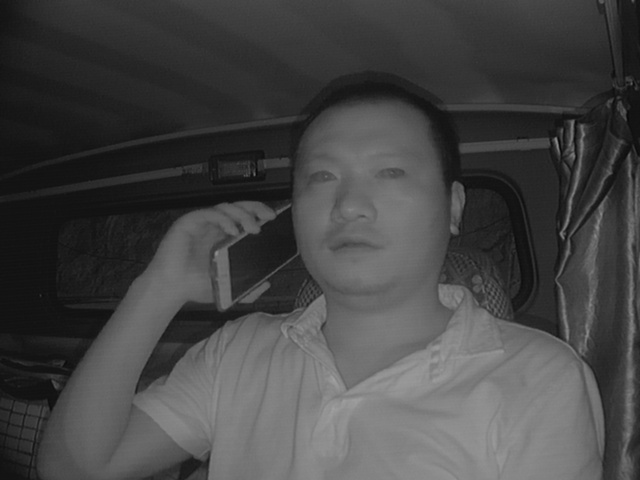hand: (163, 197, 273, 311)
